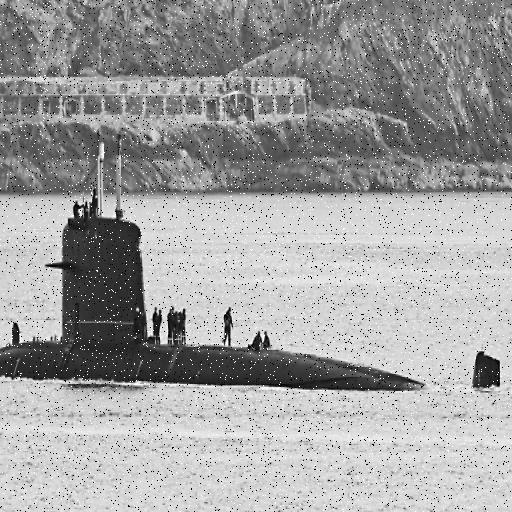submarine: (1, 134, 504, 387)
